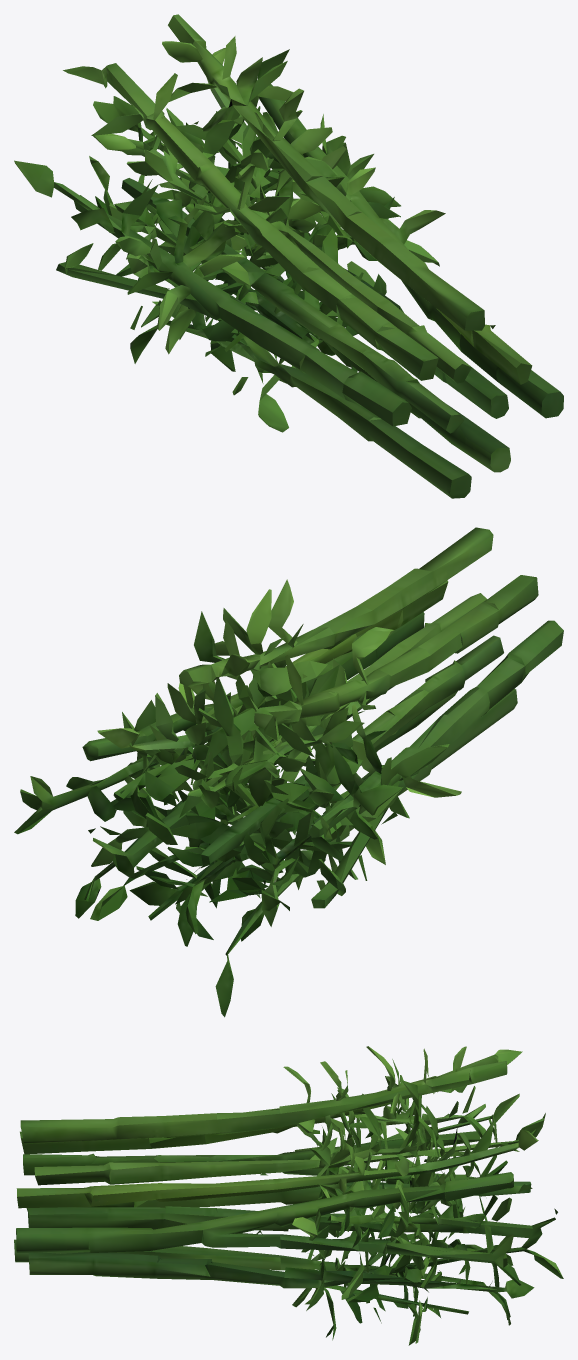
3 views of the same model, one above another, from view 1: azimuth 30°, elevation 25°; view 2: azimuth 150°, elevation 25°; view 3: azimuth 270°, elevation 25° (orthographic). The views are drawn at different scales.
Parts seen in each view (by area): view 1: geometry_0; view 2: geometry_0; view 3: geometry_0.
Boxes of the visible parts, x1,y1,x2,y2 form: geometry_0: (14, 14, 563, 498); geometry_0: (14, 527, 563, 1017); geometry_0: (14, 1046, 563, 1345).
Bounding box in the file's own units: 0.5452 × 0.5594 × 0.9594.
1 material, 1 textured.
